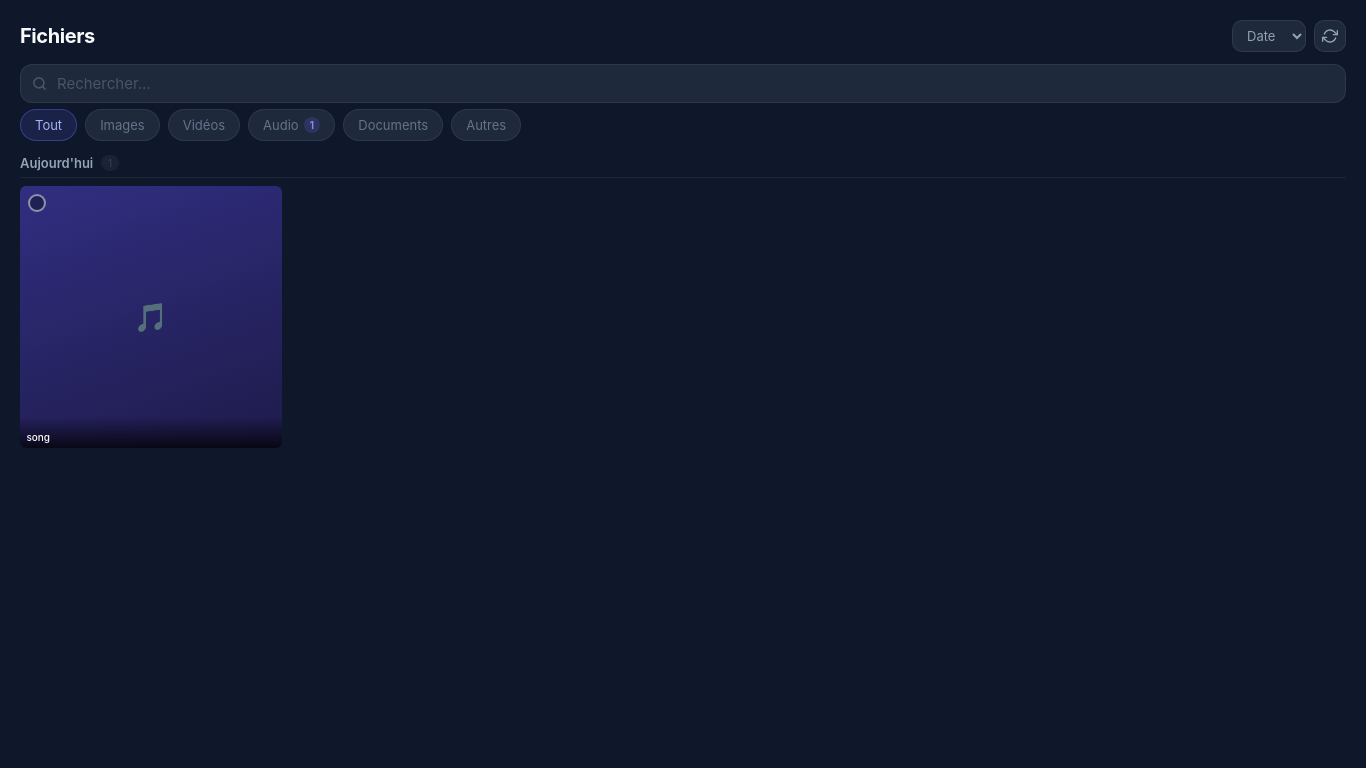
TimelineView › media viewer (video/audio/pdf/unsupported) › shows the file size and name in the media viewer info bar
Click the element with class "file-cell" at (151, 317), box [20, 186, 282, 448]
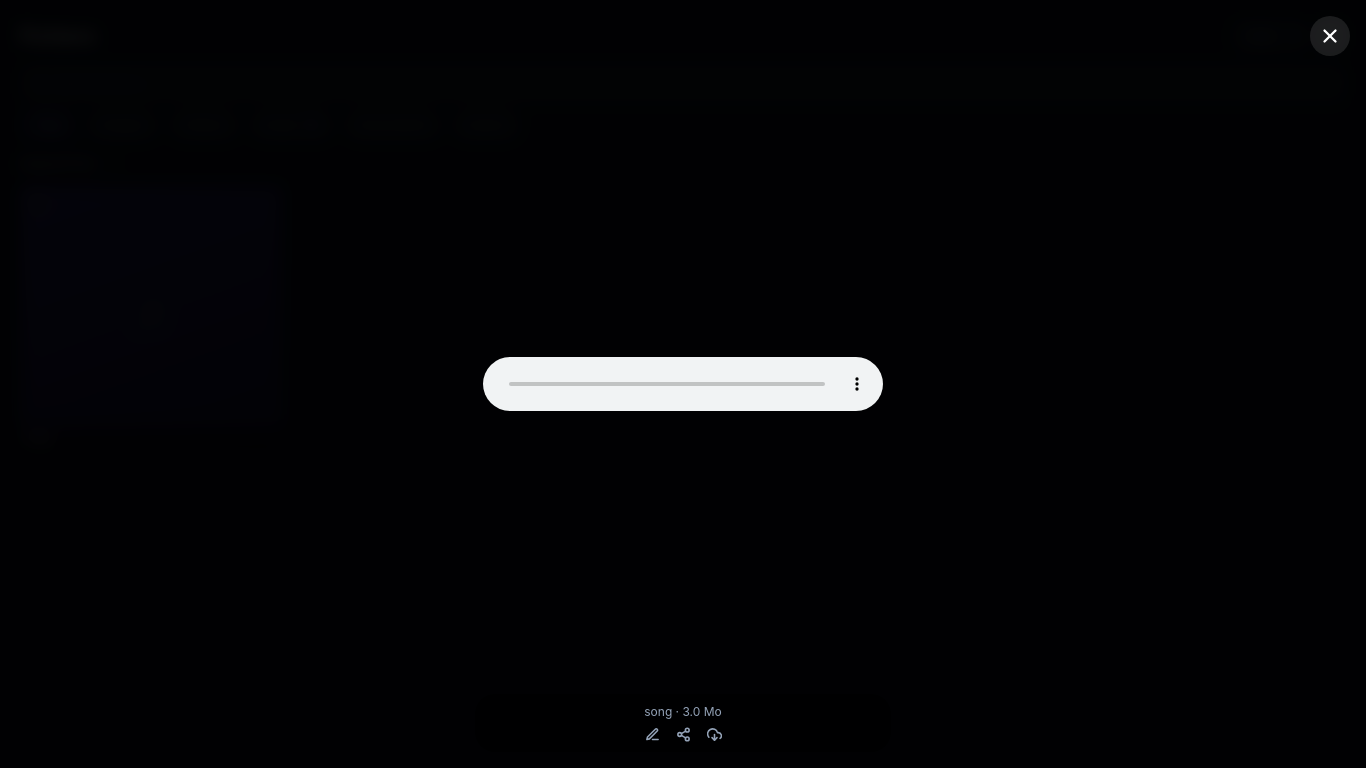
Expected: the text with class "lb-meta" shows "3.0 Mo", [644, 704, 722, 719]
